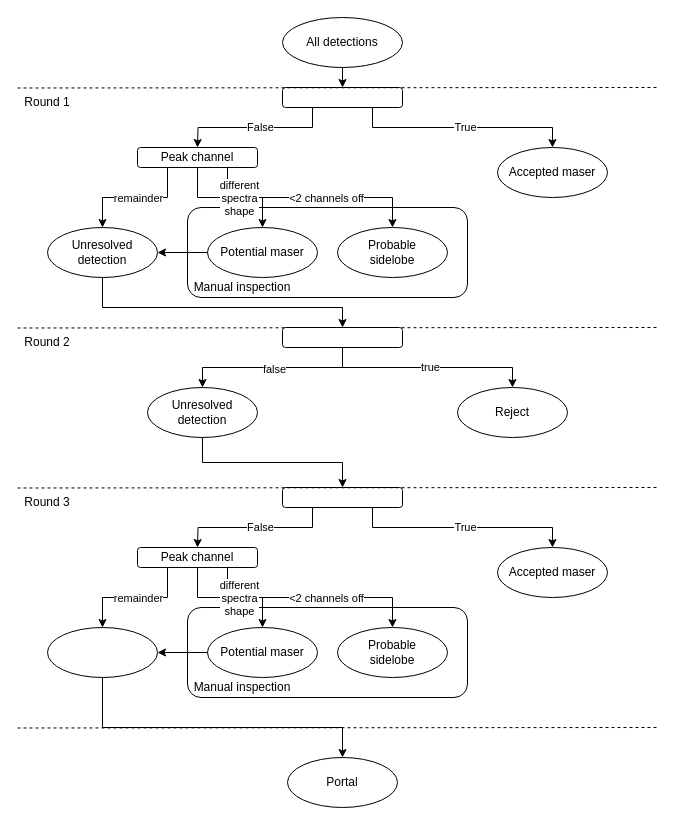
Image size: 676x825. Some labels were removed from this diagram. Each missing label, with the centre of its shape:
Manually resolve: (102,652)
SNR < 4: (342,337)
SNR > 10: (342,497)
SNR > 100: (342,97)
